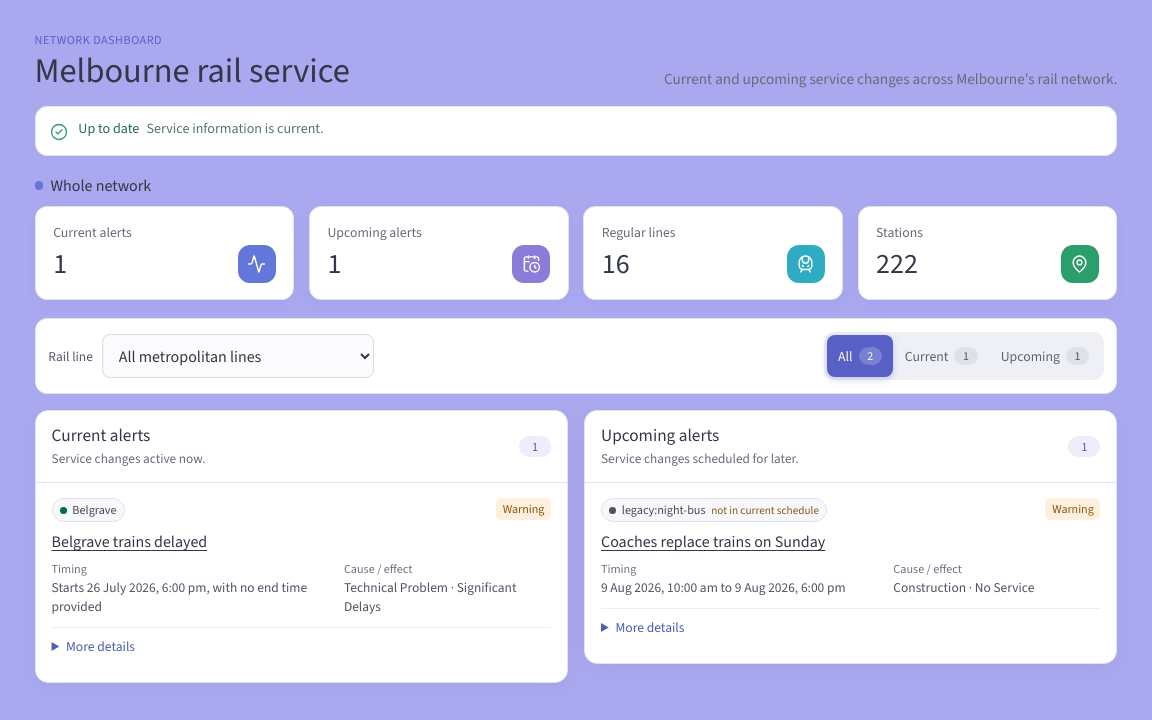
Test: Dashboard › renders a fresh populated service dashboard
The image size is (1152, 720).
Expected: the heading "Belgrave trains delayed" is shown, [52,531,207,552]
Expected: the heading "Coaches replace trains on Sunday" is shown, [601,531,825,552]
Click the heading "More details" below "Technical Problem": (101, 646) [66,637,135,655]
(page scrolled)
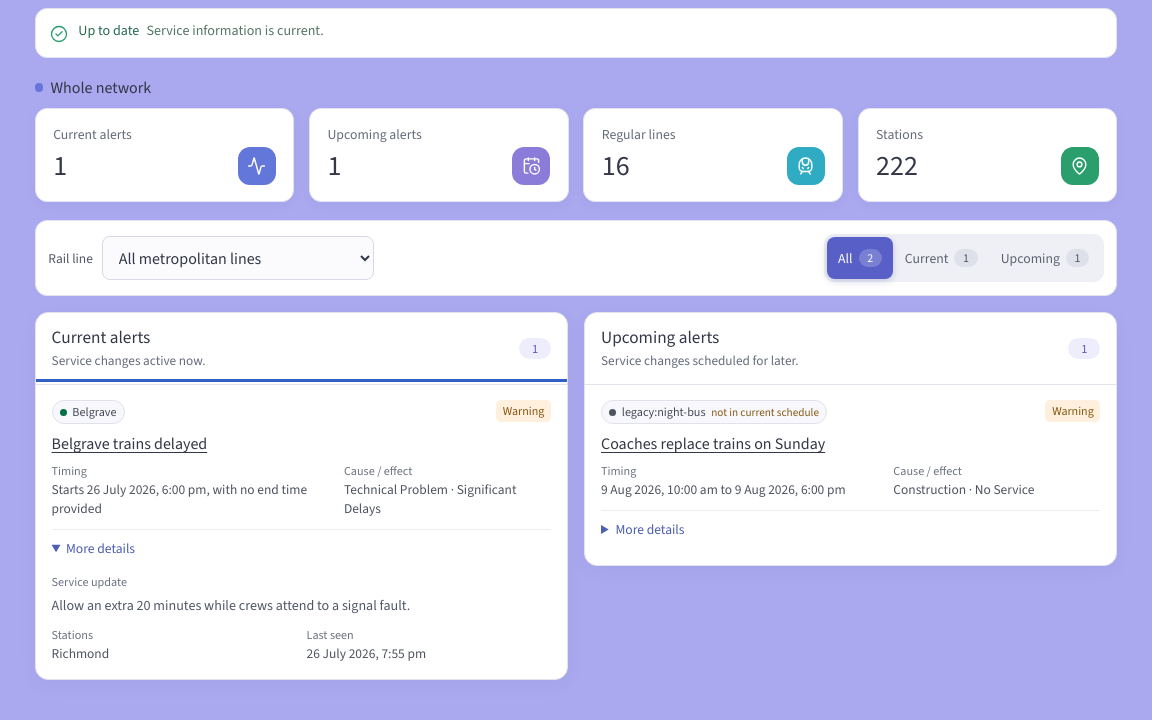
Result: the text "Service update" is shown at [52,574,127,590]
Result: the text "Richmond" is shown at [52,645,109,662]
